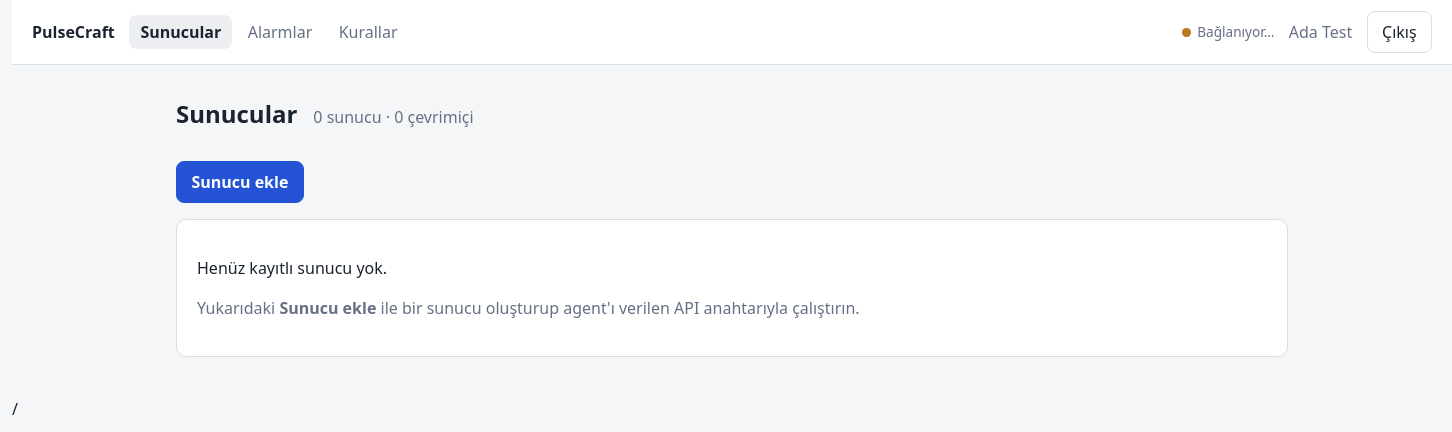
uygulama akışı › üst çubuktaki "Alarmlar" bağlantısı alarm panosunu açar
Click the link "Alarmlar" at point(280, 32), box x1=248 y1=21 x2=312 y2=43
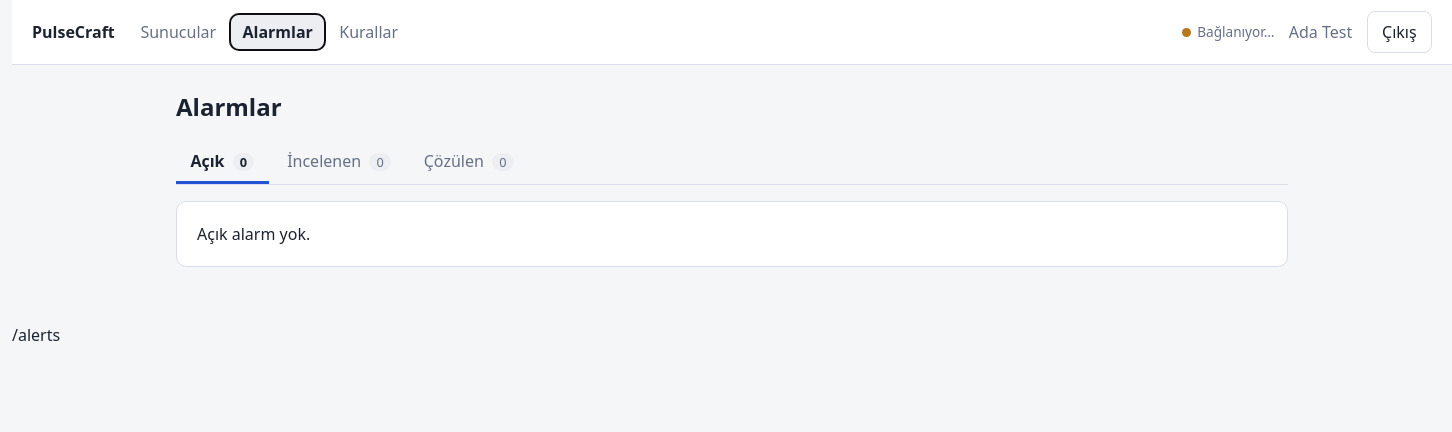
Expected: the heading "Alarmlar" is shown, x1=176 y1=89 x2=282 y2=125
Expected: the text with test id "where" reads "/alerts", x1=12 y1=324 x2=60 y2=346
